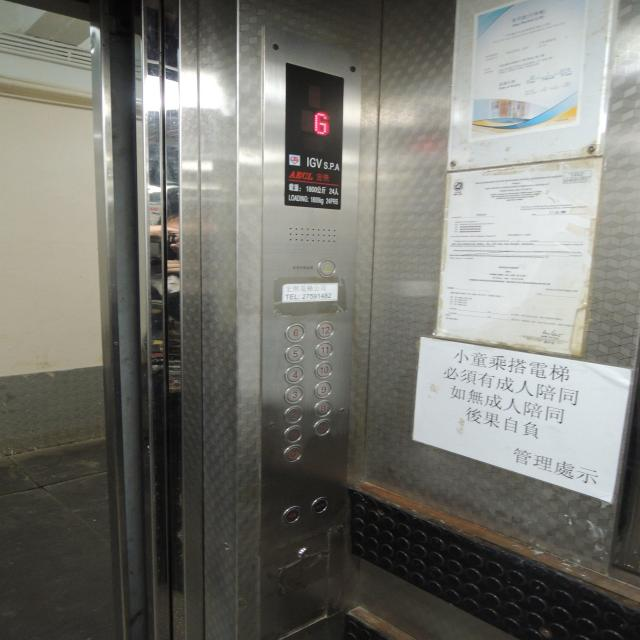1: (283, 424, 303, 444)
10: (314, 361, 332, 379)
11: (313, 341, 334, 359)
12: (314, 320, 334, 340)
2: (284, 405, 304, 424)
3: (283, 384, 304, 404)
4: (283, 365, 305, 384)
5: (285, 344, 304, 364)
6: (284, 321, 306, 343)
7: (313, 418, 332, 437)
8: (312, 400, 332, 418)
9: (313, 380, 332, 398)
G: (282, 444, 303, 464)
alarm: (316, 258, 336, 279)
close: (310, 495, 330, 515)
keyhole: (297, 546, 308, 558)
led: (281, 61, 352, 212)
open: (282, 505, 303, 525)
